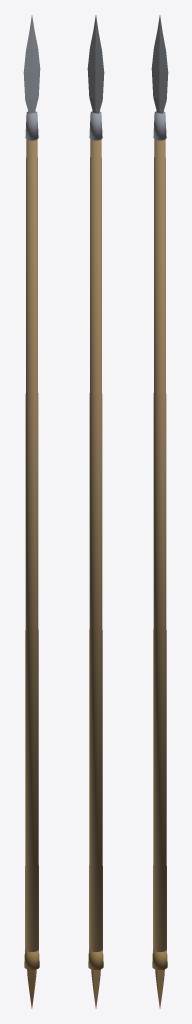
File: spear.glb
3 renders of one model, left to right at view 1: azimuth 30°, elevation 25°; view 2: azimuth 150°, elevation 25°; view 3: azimuth 330°, elevation 25°, orthographic.
Parts seen in each view (by area): view 1: shaft, head, head_socket, butt_socket, sauroter; view 2: shaft, head, head_socket, butt_socket, sauroter; view 3: shaft, head, head_socket, butt_socket, sauroter.
Part boxes in pixels (x1,y1,x2,y2): shaft: (25,139,38,951); head: (23,15,40,113); head_socket: (25,111,38,140); butt_socket: (24,950,39,969); sauroter: (27,969,36,1008); shaft: (89,139,102,951); head: (87,15,104,113); head_socket: (89,111,102,140); butt_socket: (88,950,103,969); sauroter: (91,969,100,1008); shaft: (153,139,166,951); head: (151,15,168,113); head_socket: (153,111,166,140); butt_socket: (152,950,167,969); sauroter: (155,969,164,1008).
Size of the model in its own units: 0.049 by 2.81 by 0.04.
